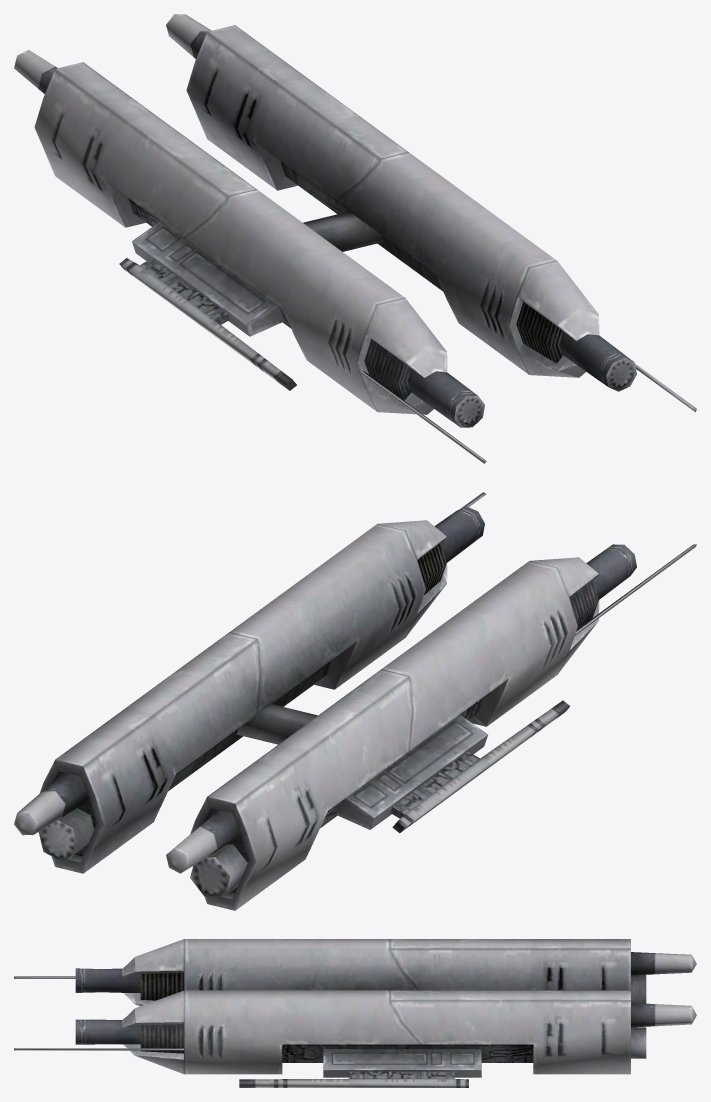
Rendered from spacestation_turret_body_s02_l1.fbx.
3 views of the same model, one above another, from view 1: azimuth 30°, elevation 25°; view 2: azimuth 150°, elevation 25°; view 3: azimuth 270°, elevation 25° (orthographic). The views are drawn at different scales.
Parts seen in each view (by area): view 1: mesh_node; view 2: mesh_node; view 3: mesh_node.
Boxes of the visible parts, x1,y1,x2,y2 form: mesh_node: [14, 14, 696, 463]; mesh_node: [14, 492, 696, 910]; mesh_node: [14, 939, 696, 1087].
Bounding box in the file's own units: 4.39 × 1.58 × 13.1.
